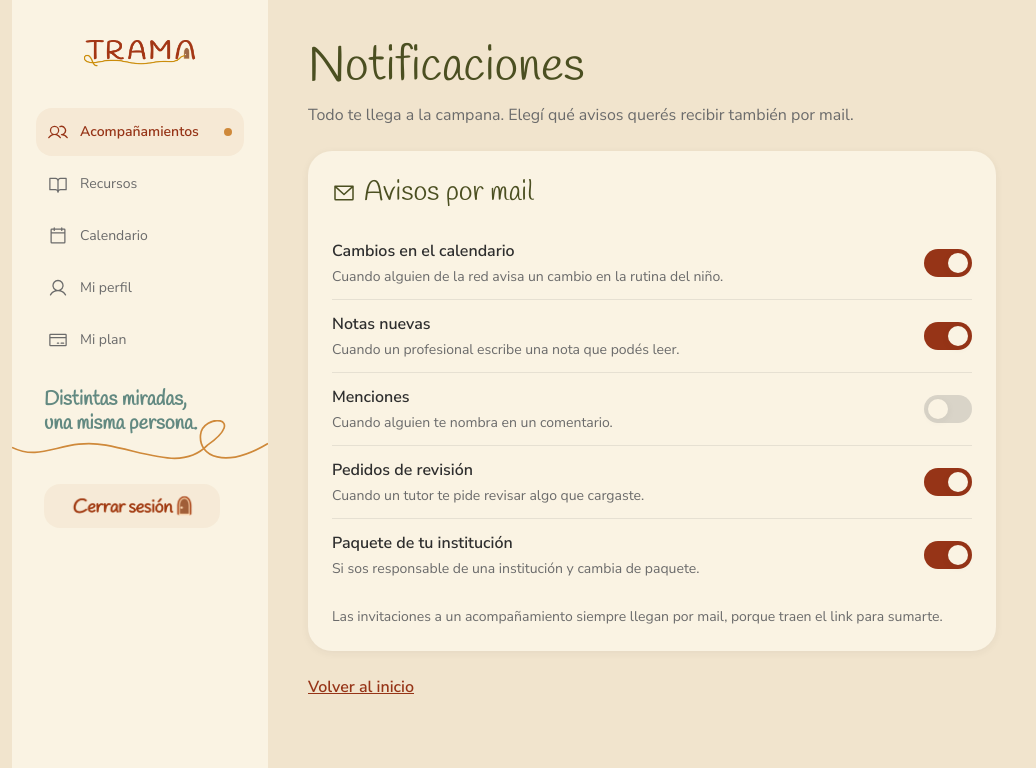
Test: 6.1: avisos por mail › apagar un interruptor guarda solo ese tipo
The width and height of the screenshot is (1036, 768).
What coordinates should you click on to do the following:
click the switch labelled "Notas nuevas"
I would click on:
 (381, 324)
Its box is [332,312,972,360].
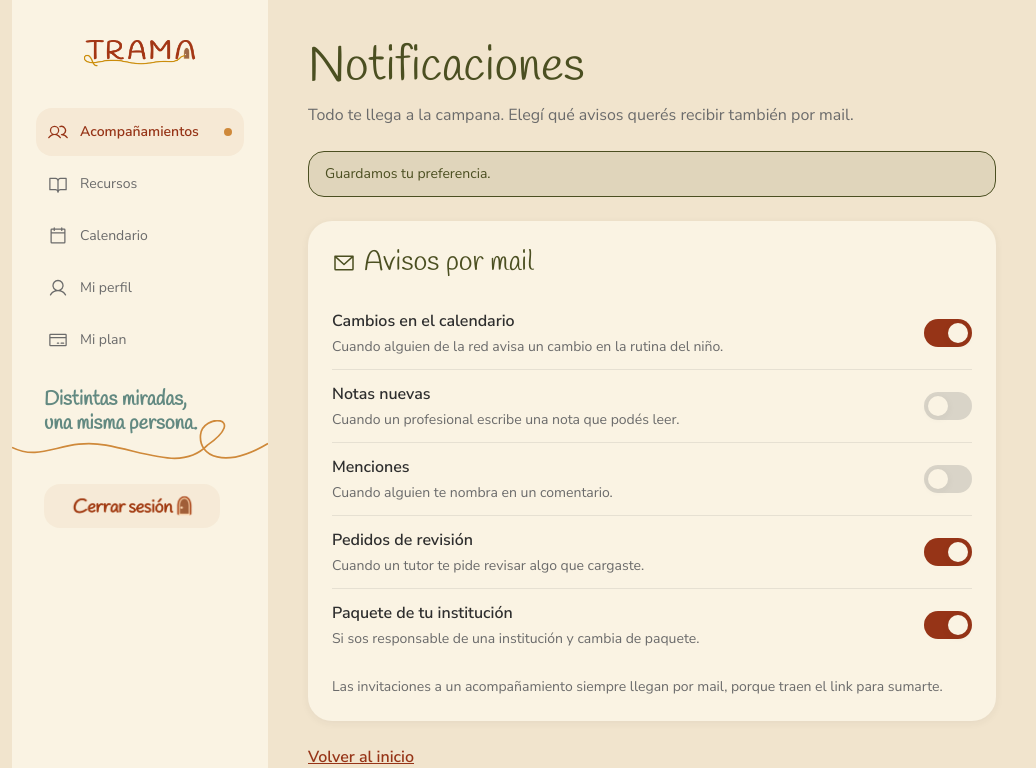
Now the switch labelled "Notas nuevas" is not checked, box [332,382,972,430]
Now the text "Guardamos tu preferencia." is shown, box [308,151,996,197]
